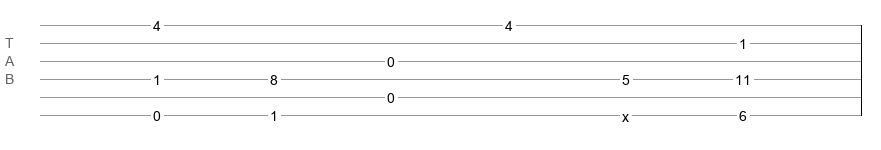0: (153, 108, 161, 118), (387, 90, 395, 100), (387, 54, 395, 64)
1: (153, 72, 161, 82), (270, 108, 278, 118), (739, 36, 747, 46)
11: (735, 72, 751, 82)
4: (153, 18, 161, 28), (505, 18, 513, 28)
5: (622, 72, 630, 82)
6: (739, 108, 747, 118)
8: (270, 72, 278, 82)
x: (622, 109, 629, 117)
